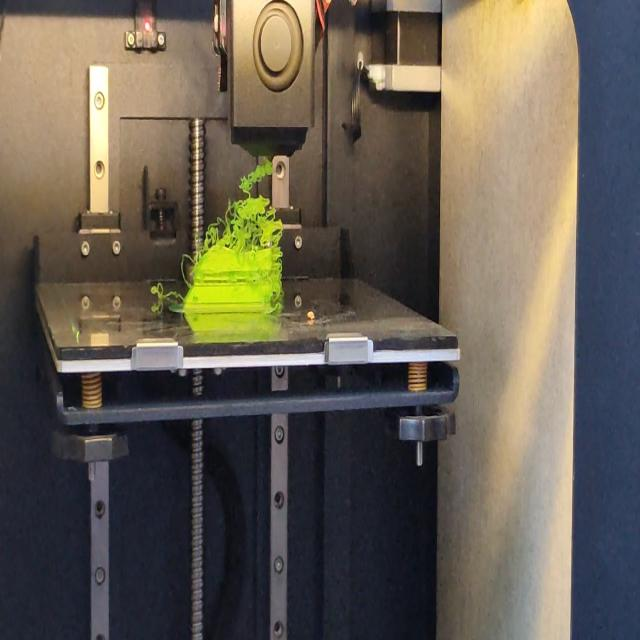spaghetti: (200, 162, 280, 245), (146, 284, 183, 303), (181, 246, 195, 287), (269, 300, 285, 312)
